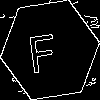F: (25, 25, 59, 74)
